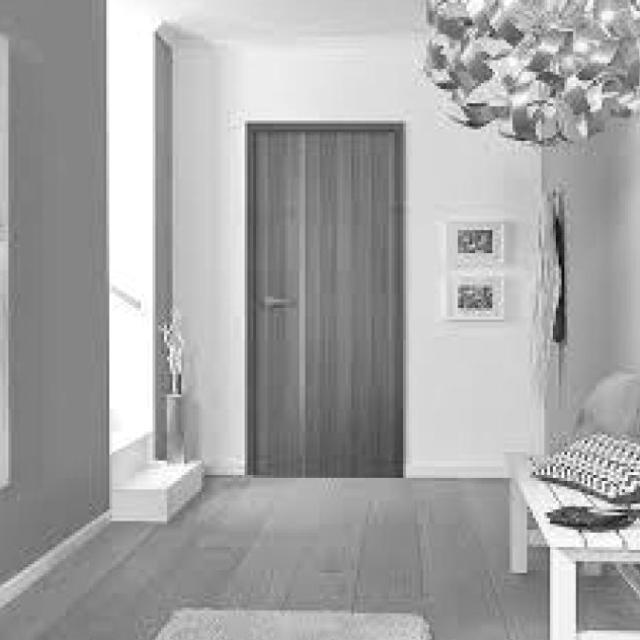door: (245, 121, 405, 478)
